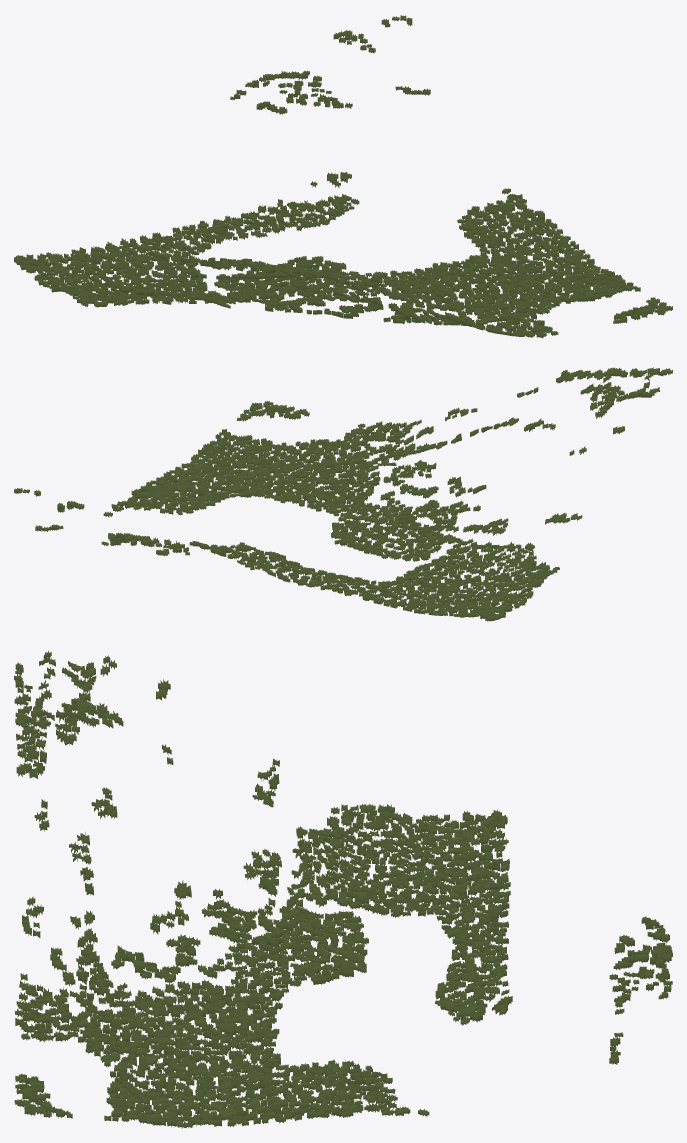
File: TRB8-GRASS-CHUNK-6-1.glb
The picture shows the model from 3 angles, top to bottom: view 1: azimuth 30°, elevation 25°; view 2: azimuth 150°, elevation 25°; view 3: azimuth 270°, elevation 25°; orthographic projection. The views are drawn at different scales.
Parts seen in each view (by area): view 1: TRB8-GRASS-CHUNK-6-1; view 2: TRB8-GRASS-CHUNK-6-1; view 3: TRB8-GRASS-CHUNK-6-1.
Part boxes in pixels (x1,y1,x2,y2): TRB8-GRASS-CHUNK-6-1: (14,15,672,338); TRB8-GRASS-CHUNK-6-1: (14,367,672,621); TRB8-GRASS-CHUNK-6-1: (14,650,672,1128).
Size of the model in its own units: 40.54 by 13.78 by 40.51.
1 material, 1 textured.
